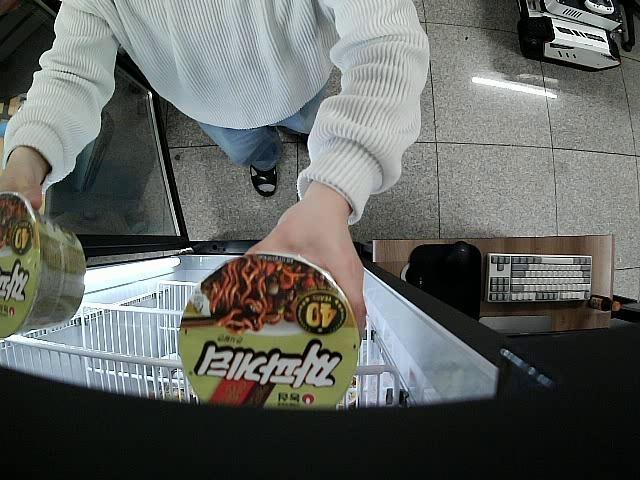03_chapagetti_L: (172, 253, 362, 413), (0, 192, 86, 341)
